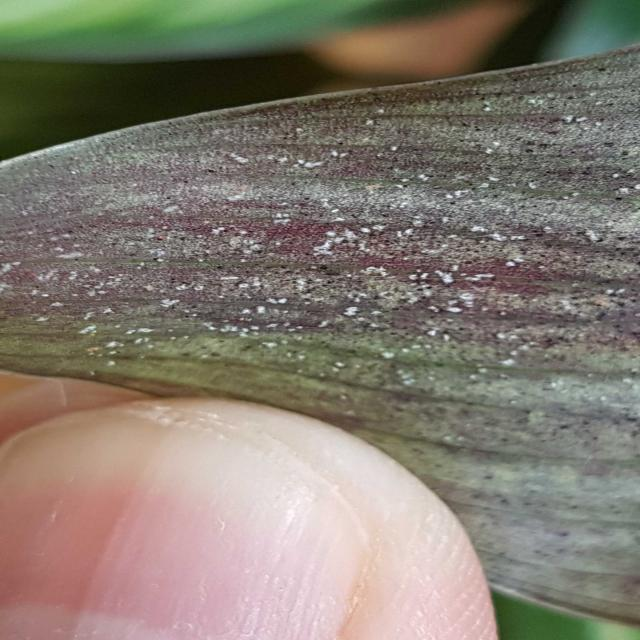Thrip-Group-: (48, 96, 616, 375)
